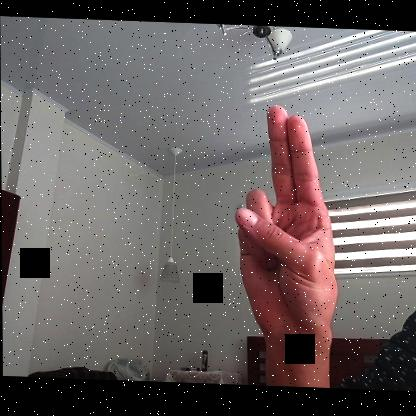U: (236, 101, 341, 347)
